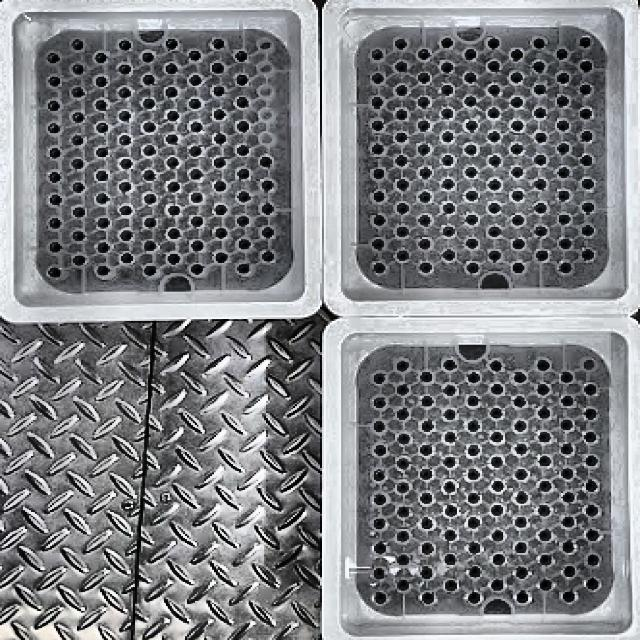vial: (562, 540, 576, 552), (96, 122, 109, 134), (120, 252, 133, 264), (371, 96, 383, 109), (559, 262, 572, 274), (374, 542, 387, 554), (556, 120, 570, 131), (580, 36, 592, 48), (443, 202, 455, 214), (397, 202, 409, 214), (489, 226, 501, 238), (467, 262, 479, 274), (397, 408, 409, 420), (563, 516, 575, 528), (515, 542, 527, 554), (469, 566, 481, 578), (587, 578, 599, 590), (189, 75, 202, 86), (213, 109, 226, 120), (237, 121, 250, 132), (49, 194, 62, 205), (237, 191, 250, 202), (48, 218, 61, 229), (96, 265, 109, 276), (556, 95, 569, 106), (511, 120, 524, 131), (580, 155, 593, 166), (395, 155, 408, 166), (419, 168, 432, 179), (371, 239, 384, 250), (466, 238, 479, 249), (490, 360, 503, 371), (538, 408, 551, 419), (491, 431, 504, 442), (467, 445, 480, 456), (419, 445, 432, 456), (374, 445, 387, 456), (467, 469, 480, 480), (586, 505, 599, 516), (491, 530, 504, 541), (539, 530, 552, 541), (587, 530, 600, 541), (422, 542, 433, 555), (515, 568, 528, 579), (421, 566, 432, 579), (72, 255, 86, 265), (96, 76, 107, 88), (119, 110, 131, 121), (48, 122, 59, 134), (237, 96, 248, 108), (260, 156, 272, 167), (215, 228, 227, 239), (191, 264, 203, 275), (215, 252, 227, 263), (371, 49, 383, 60), (419, 49, 431, 60), (465, 49, 477, 60), (558, 72, 569, 84), (580, 84, 592, 95), (418, 96, 429, 108), (511, 96, 522, 108), (419, 191, 431, 202), (535, 202, 546, 214), (489, 202, 500, 214), (582, 225, 594, 236), (397, 226, 408, 238), (582, 249, 594, 260), (443, 250, 455, 261), (397, 250, 409, 261), (374, 262, 385, 274), (397, 360, 409, 371), (585, 384, 597, 395), (491, 408, 503, 419), (373, 421, 385, 432), (539, 431, 551, 442), (515, 444, 527, 455), (397, 458, 409, 469), (539, 455, 551, 466), (373, 470, 385, 481), (517, 492, 528, 504), (469, 492, 480, 504), (421, 492, 432, 504), (398, 506, 409, 518), (445, 505, 457, 516), (421, 518, 433, 529), (469, 542, 480, 554), (493, 554, 505, 565), (445, 580, 457, 591), (376, 592, 387, 604), (422, 592, 433, 604), (469, 592, 480, 604), (563, 591, 575, 602), (165, 64, 178, 74), (165, 39, 178, 49), (165, 88, 178, 98), (72, 112, 85, 122), (72, 88, 85, 98), (48, 76, 61, 86), (48, 172, 61, 182), (96, 148, 109, 158), (165, 134, 178, 144), (213, 158, 226, 168), (120, 159, 133, 169), (237, 169, 250, 179), (96, 194, 109, 204), (120, 205, 133, 215), (72, 208, 85, 218), (144, 218, 157, 228), (237, 216, 250, 226), (144, 241, 157, 251), (48, 268, 61, 278), (144, 266, 157, 276), (237, 264, 250, 274), (487, 61, 500, 71), (395, 85, 408, 95), (371, 121, 384, 131), (395, 132, 408, 142), (371, 144, 384, 154), (418, 145, 431, 155), (466, 191, 479, 201), (466, 215, 479, 225), (535, 226, 548, 236), (443, 360, 456, 370), (538, 360, 551, 370), (514, 372, 527, 382), (491, 384, 504, 394), (467, 421, 480, 431), (491, 481, 504, 491), (539, 481, 552, 491), (538, 505, 551, 515), (467, 518, 480, 528), (539, 555, 552, 565), (587, 555, 600, 565), (491, 580, 504, 590), (72, 39, 83, 50), (48, 100, 59, 111), (144, 145, 155, 156), (263, 204, 274, 215), (120, 230, 131, 241), (263, 251, 274, 262), (489, 38, 500, 49), (534, 38, 545, 49), (511, 49, 522, 60), (535, 108, 546, 119), (489, 108, 500, 119), (397, 109, 408, 120), (466, 120, 477, 131), (442, 131, 453, 142), (490, 155, 501, 166), (442, 155, 453, 166), (535, 179, 546, 190), (397, 179, 408, 190), (513, 190, 524, 201), (421, 371, 432, 382), (445, 385, 456, 396), (538, 384, 549, 395), (445, 409, 456, 420), (585, 431, 596, 442), (562, 444, 573, 455), (586, 455, 597, 466), (517, 469, 528, 480), (421, 469, 432, 480), (445, 481, 456, 492), (586, 480, 597, 491), (374, 494, 385, 505), (445, 530, 456, 541), (445, 554, 456, 565), (398, 580, 409, 591), (119, 88, 131, 98), (119, 40, 131, 50), (119, 64, 131, 74), (143, 99, 155, 109), (95, 52, 107, 62), (47, 52, 59, 62), (212, 39, 224, 49), (167, 111, 179, 121), (49, 148, 61, 158), (119, 135, 131, 145), (73, 182, 85, 192), (191, 192, 203, 202), (191, 216, 203, 226), (73, 231, 85, 241), (97, 242, 109, 252), (49, 242, 61, 252), (395, 39, 407, 49), (556, 49, 568, 59), (580, 61, 592, 71), (395, 61, 407, 71), (371, 74, 383, 84), (419, 74, 431, 84), (534, 85, 546, 95), (580, 109, 592, 119), (465, 145, 477, 155), (582, 179, 594, 189), (489, 180, 501, 190), (443, 179, 455, 189), (443, 226, 455, 236), (419, 239, 431, 249), (513, 239, 525, 249), (513, 262, 525, 272), (561, 372, 573, 382), (467, 396, 479, 406), (585, 409, 597, 419), (515, 421, 527, 431), (491, 458, 503, 468), (563, 492, 575, 502), (515, 518, 527, 528), (373, 519, 385, 529), (397, 531, 409, 541), (144, 194, 157, 203), (491, 505, 504, 514), (143, 52, 154, 62), (143, 75, 154, 85), (96, 100, 107, 110), (144, 122, 155, 132), (72, 64, 83, 74), (236, 51, 247, 61), (212, 62, 223, 72), (213, 86, 224, 96), (189, 99, 200, 109), (72, 159, 83, 169), (215, 134, 226, 144), (191, 146, 202, 156), (237, 145, 248, 155), (167, 158, 178, 168), (96, 171, 107, 181), (144, 170, 155, 180), (191, 170, 202, 180), (215, 181, 226, 191), (263, 180, 274, 190), (263, 228, 274, 238), (168, 228, 179, 238), (192, 241, 203, 251), (168, 254, 179, 264), (442, 38, 453, 48), (534, 61, 545, 71), (442, 62, 453, 72), (465, 72, 476, 82), (511, 72, 522, 82), (489, 85, 500, 95), (442, 85, 453, 95), (465, 96, 476, 106), (442, 109, 453, 119), (418, 121, 429, 131), (582, 131, 593, 141), (535, 132, 546, 142), (489, 131, 500, 141), (511, 144, 522, 154), (558, 144, 569, 154), (535, 155, 546, 165), (373, 169, 384, 179), (466, 168, 477, 178), (513, 168, 524, 178), (558, 168, 569, 178), (583, 202, 594, 212), (374, 215, 385, 225), (513, 215, 524, 225), (559, 214, 570, 224), (561, 239, 572, 249), (421, 262, 432, 272), (469, 372, 480, 382), (374, 374, 385, 384), (397, 385, 408, 395), (562, 396, 573, 406), (514, 396, 525, 406), (422, 396, 433, 406), (374, 398, 385, 408), (562, 420, 573, 430), (422, 421, 433, 431), (398, 434, 409, 444), (445, 432, 456, 442), (445, 458, 456, 468), (562, 469, 573, 479), (398, 482, 409, 492), (398, 555, 409, 565), (565, 566, 576, 576), (541, 580, 552, 590), (517, 592, 528, 602), (119, 182, 131, 191), (239, 240, 251, 249), (419, 215, 431, 224), (237, 75, 247, 85), (216, 205, 226, 215), (374, 191, 384, 201), (490, 251, 500, 261), (374, 569, 384, 579), (189, 51, 200, 60), (72, 136, 83, 145), (191, 122, 202, 131), (168, 182, 179, 191), (168, 206, 179, 215), (537, 251, 548, 260), (97, 219, 109, 227), (559, 191, 569, 200)
